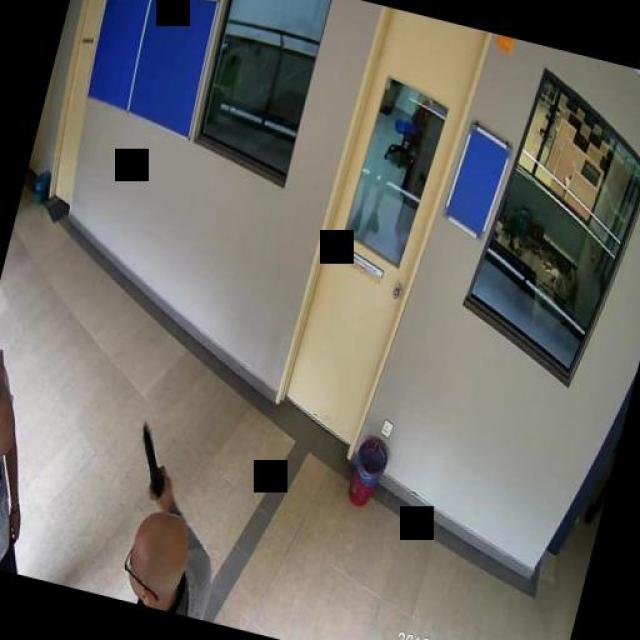gun: (124, 419, 178, 501)
